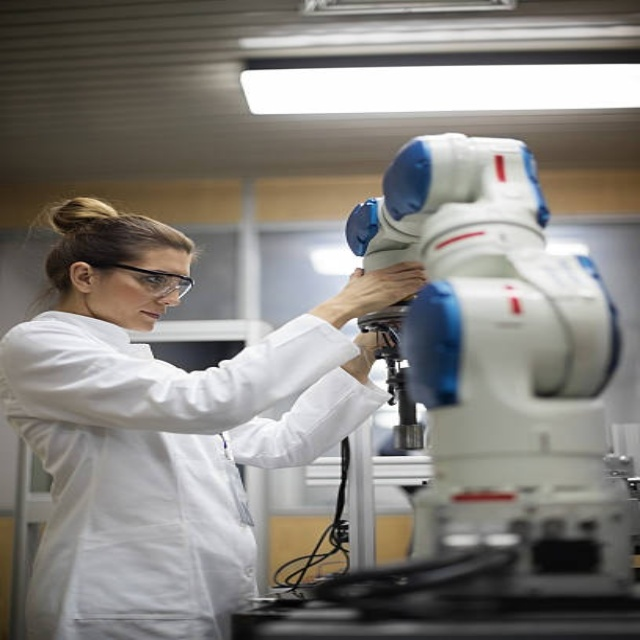Gafas: (92, 262, 194, 301)
Sin_guantes: (328, 259, 430, 312)
Sin_mascara: (124, 304, 168, 333)
